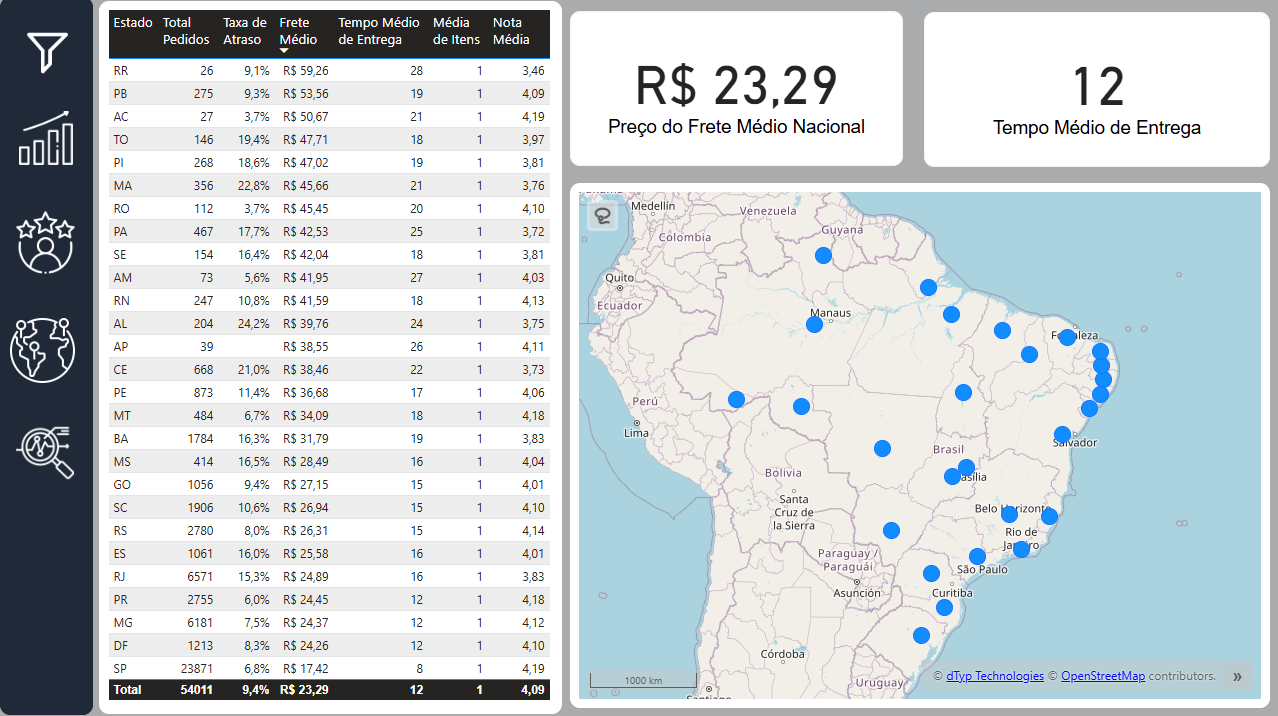

The page's visual inventory and layout, read from the dashboard file:
{"tool":"powerbi","page":{"name":"Análise Regional","canvas":[1280,720],"ordinal":2},"visuals":[{"type":"datamap8FEE960E90FB4AF6BD5F829E8460D340","fields":{"category":["dim_geolocalizacao_clientes.estado"],"longitude":["Avg(dim_geolocalizacao_clientes.longitude_media)"],"latitude":["Avg(dim_geolocalizacao_clientes.latitude_media)"]},"box":[570.4,185.9,700.1,525],"z":0},{"type":"tableEx","fields":{"Values":["dim_cliente.estado_cliente","Medidas.Numero_de_Pedidos","Medidas.Taxa_de_Atraso","Medidas.Frete_Medio","Medidas.Tempo_Medio_Entrega","Medidas.Qtd_Media_Itens_Por_Pedido","Medidas.Nota_Media"]},"box":[98.8,3.6,463.4,713.7],"z":1000},{"type":"shape","box":[0,0,93.3,718.3],"z":2000},{"type":"image","box":[19.7,18.2,53,74.2],"z":3000},{"type":"image","box":[0,109,92.4,63.6],"z":4000},{"type":"image","box":[0,205.9,92.4,78.7],"z":5000},{"type":"image","box":[0,420.9,90.9,69.7],"z":6000},{"type":"image","box":[0,316.5,86.3,74.2],"z":7000},{"type":"card","fields":{"Values":["Medidas.Tempo_Medio_Entrega"]},"box":[924,15.4,346.4,154.2],"z":8000},{"type":"card","fields":{"Values":["Medidas.Frete_Medio_Nacional"]},"box":[570.3,14.4,332.2,154.9],"z":9000}]}

Visuals, with their boxes on the page's 1280x720 design canvas (x1, y1, x2, y2). These are canvas units, not pixel positions in the 1278x716 screenshot, which may show the page scaled, cropped or inside an application window:
datamap8FEE960E90FB4AF6BD5F829E8460D340 - dim_geolocalizacao_clientes.estado x Avg(dim_geolocalizacao_clientes.longitude_media): x1=570 y1=186 x2=1270 y2=711
tableEx - dim_cliente.estado_cliente x Medidas.Numero_de_Pedidos: x1=99 y1=4 x2=562 y2=717
shape: x1=0 y1=0 x2=93 y2=718
image: x1=20 y1=18 x2=73 y2=92
image: x1=0 y1=109 x2=92 y2=173
image: x1=0 y1=206 x2=92 y2=285
image: x1=0 y1=421 x2=91 y2=491
image: x1=0 y1=316 x2=86 y2=391
card - Medidas.Tempo_Medio_Entrega: x1=924 y1=15 x2=1270 y2=170
card - Medidas.Frete_Medio_Nacional: x1=570 y1=14 x2=902 y2=169
